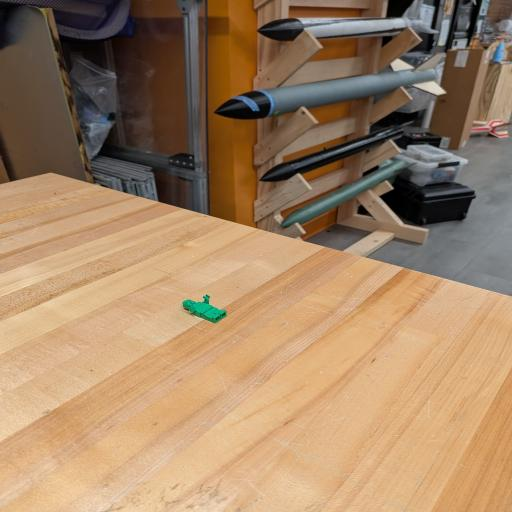Minifig: (183, 295, 226, 323)
